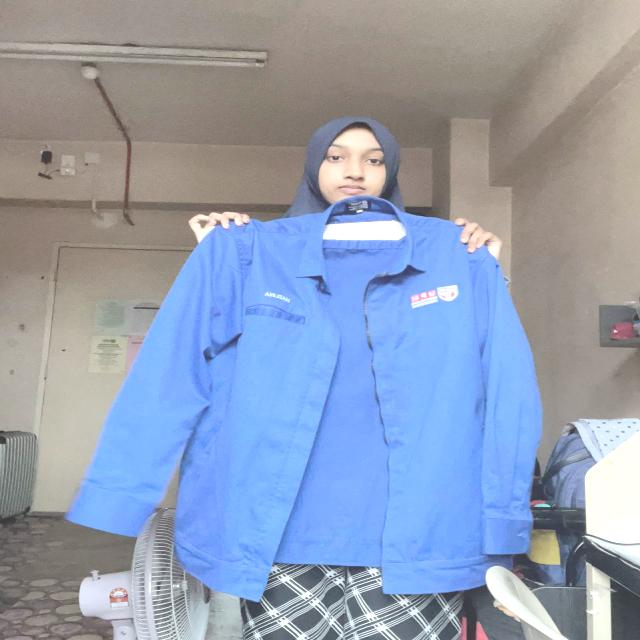person_without_labcoat: (67, 118, 541, 640)
